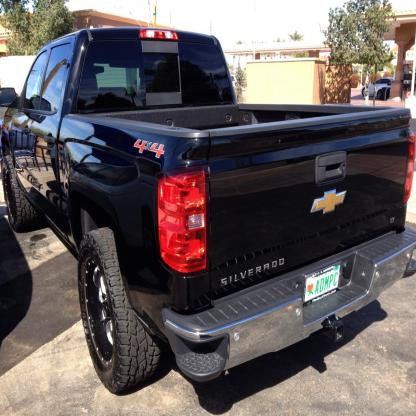Car: (360, 78, 394, 99)
Truck: (0, 26, 415, 394)
